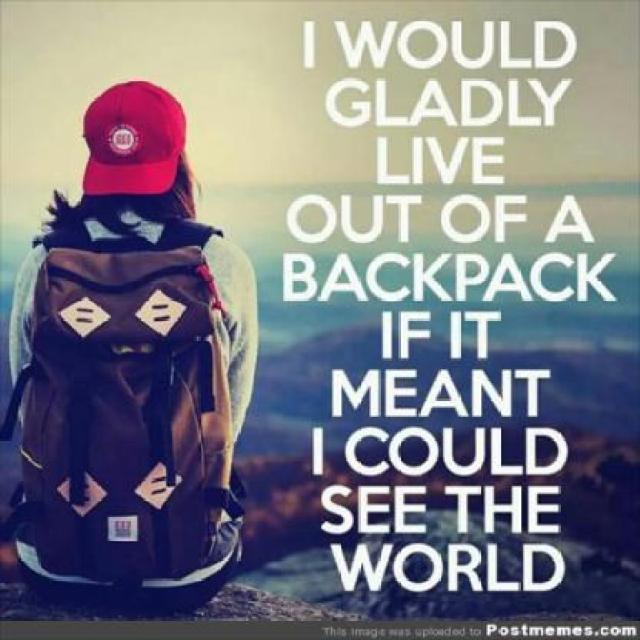backpack: (15, 228, 238, 584)
